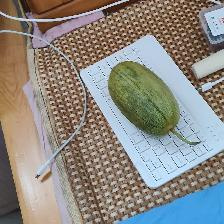gua: (111, 65, 180, 135)
